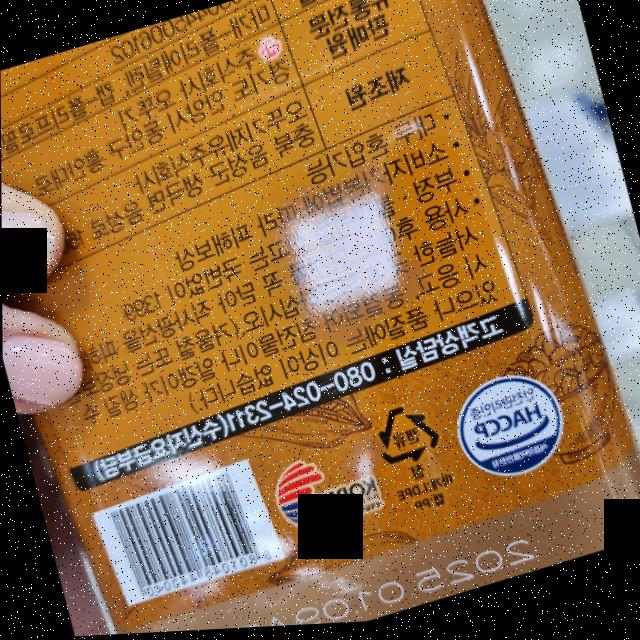Can: (368, 396, 445, 476)
